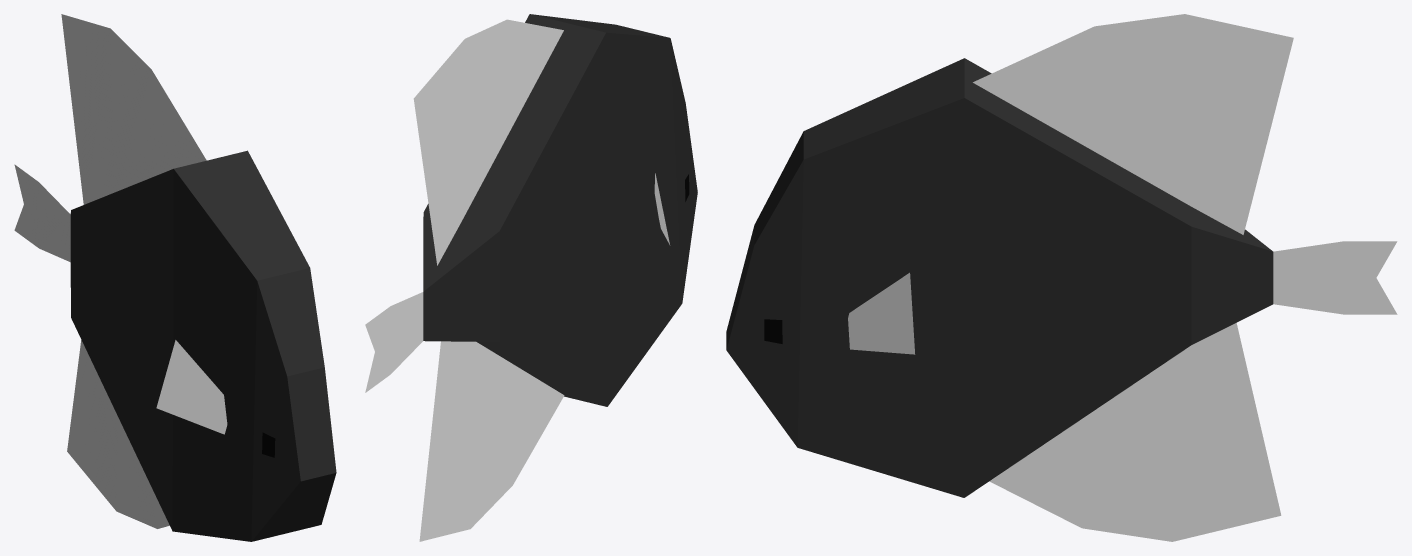
The model's file is 11fish.fbx.
The picture shows the model from 3 angles, left to right: view 1: azimuth 30°, elevation 25°; view 2: azimuth 150°, elevation 25°; view 3: azimuth 270°, elevation 25°; orthographic projection. The views are drawn at different scales.
Visible parts, largest first — view 1: Tropical Fish 11; view 2: Tropical Fish 11; view 3: Tropical Fish 11.
Part boxes in pixels (x1,y1,x2,y2): Tropical Fish 11: (14, 14, 336, 541); Tropical Fish 11: (365, 14, 697, 541); Tropical Fish 11: (726, 14, 1397, 541).
Size of the model in its own units: 69.7 by 208 by 239.
